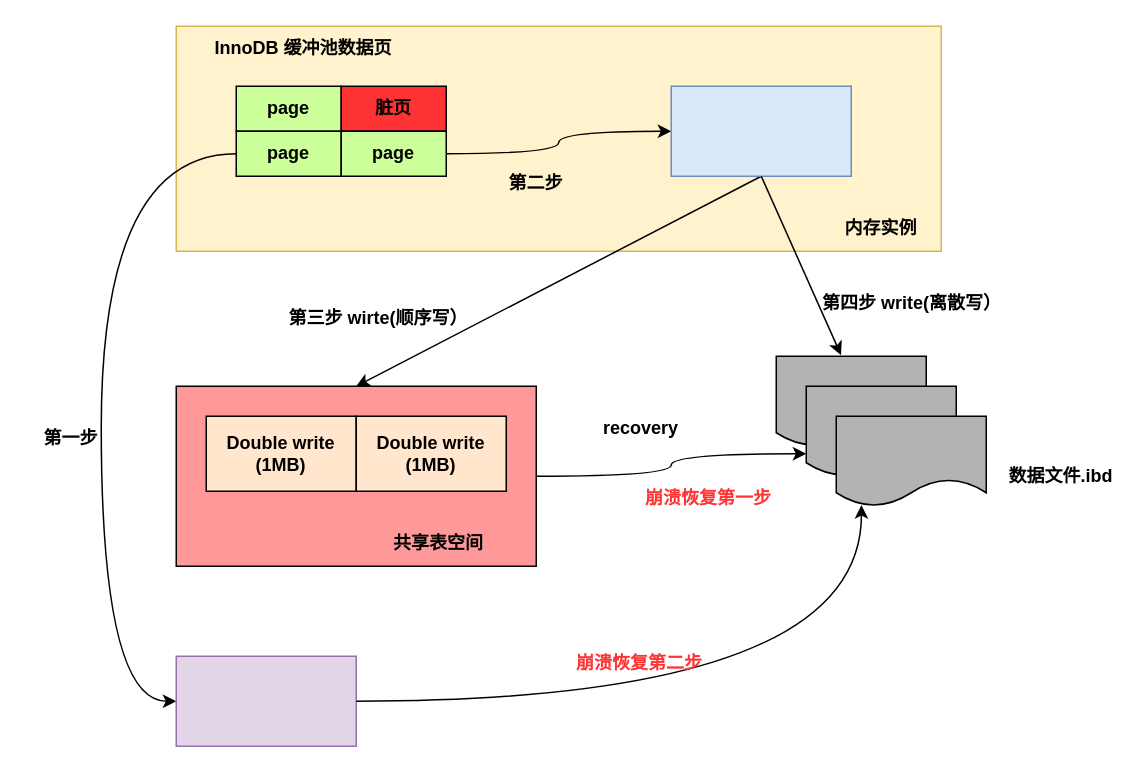
This 1146x773 diagram has some shape labels left out. The centre of each missing label's shape, as x and y in pixels:
"Double write buffer (2MB)" belongs at point 760,130.
"redo log" belongs at point 265,700.
